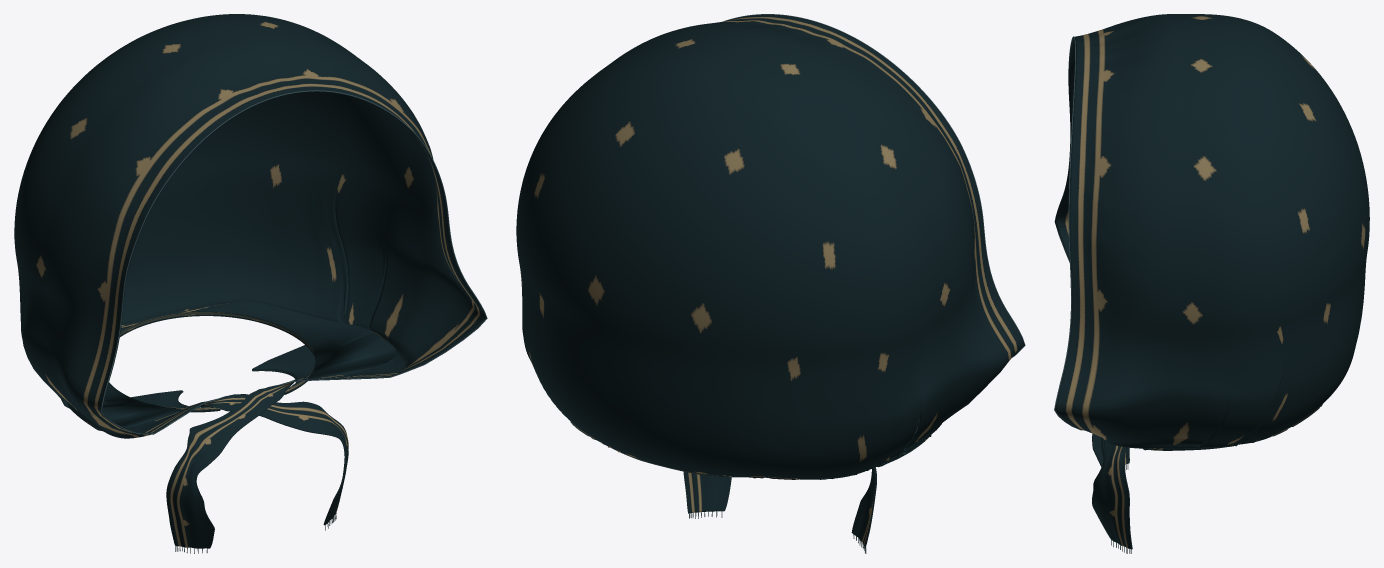
The model's file is Feminine-box-braids-tank-pashmina250-headgear.glb.
3 views of the same model, side by side, from view 1: azimuth 30°, elevation 25°; view 2: azimuth 150°, elevation 25°; view 3: azimuth 270°, elevation 25° (orthographic). The views are drawn at different scales.
Parts seen in each view (by area): view 1: 226 headgear / Headwear / continuous woven pashmina239, 226 headgear / Headwear / face edge239; view 2: 226 headgear / Headwear / continuous woven pashmina239, 226 headgear / Headwear / face edge239; view 3: 226 headgear / Headwear / continuous woven pashmina239, 226 headgear / Headwear / face edge239.
Part boxes in pixels (left/top/right/bottom): 226 headgear / Headwear / continuous woven pashmina239: left=14, top=14, right=486, bottom=548; 226 headgear / Headwear / face edge239: left=100, top=90, right=487, bottom=434; 226 headgear / Headwear / continuous woven pashmina239: left=516, top=14, right=1024, bottom=547; 226 headgear / Headwear / face edge239: left=723, top=14, right=1025, bottom=357; 226 headgear / Headwear / continuous woven pashmina239: left=1055, top=14, right=1369, bottom=549; 226 headgear / Headwear / face edge239: left=1054, top=36, right=1082, bottom=430.
Bounding box in the file's own units: 1.2 × 1.4 × 0.8346.
Materials: 3 (1 with a texture image).
